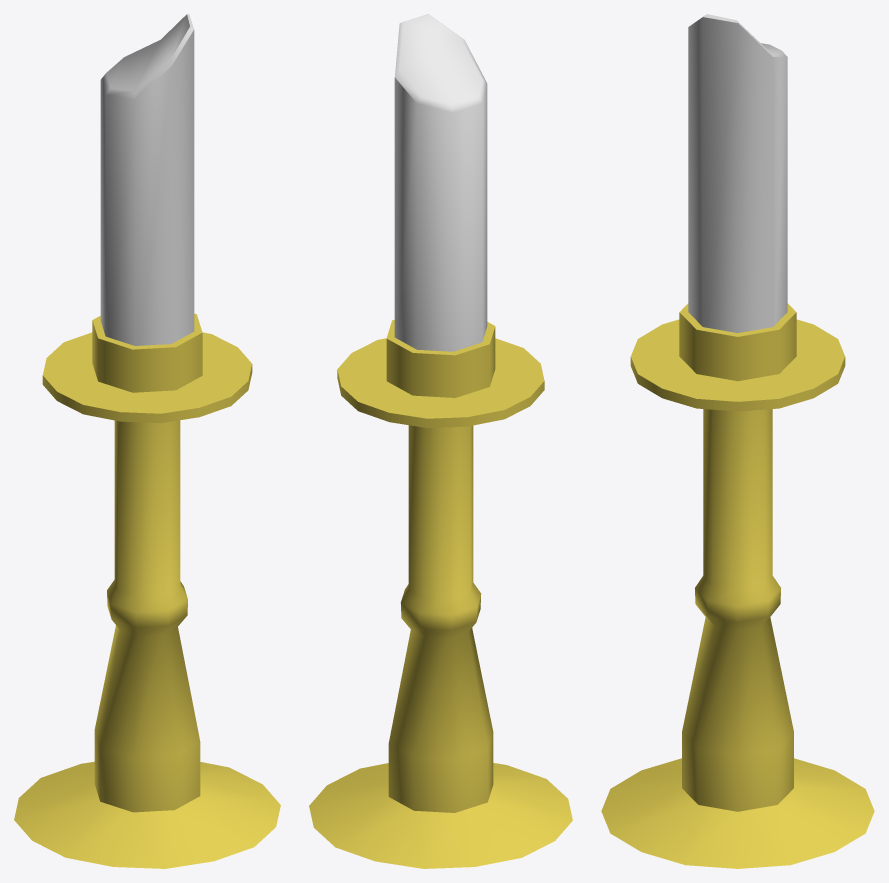
The model's file is Candlestick.fbx.
3 renders of one model, left to right at view 1: azimuth 30°, elevation 25°; view 2: azimuth 150°, elevation 25°; view 3: azimuth 270°, elevation 25°, orthographic. The views are drawn at different scales.
Parts seen in each view (by area): view 1: Подсвечник, Свеча; view 2: Подсвечник, Свеча; view 3: Подсвечник, Свеча.
Part boxes in pixels (left/top/right/bottom): Подсвечник: left=14, top=313, right=280, bottom=868; Свеча: left=100, top=14, right=194, bottom=345; Подсвечник: left=309, top=319, right=572, bottom=868; Свеча: left=394, top=14, right=487, bottom=351; Подсвечник: left=601, top=303, right=874, bottom=868; Свеча: left=688, top=14, right=787, bottom=332.
Size of the model in its own units: 8.14 by 8.14 by 26.65.
